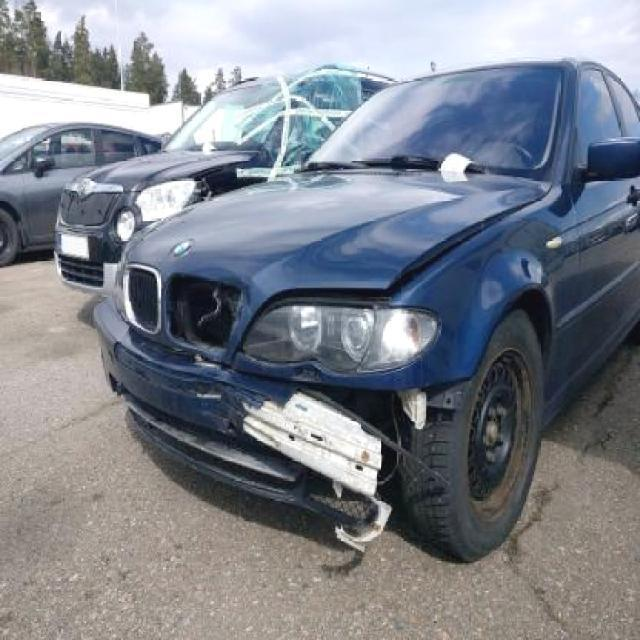minor: (234, 292, 489, 498)
